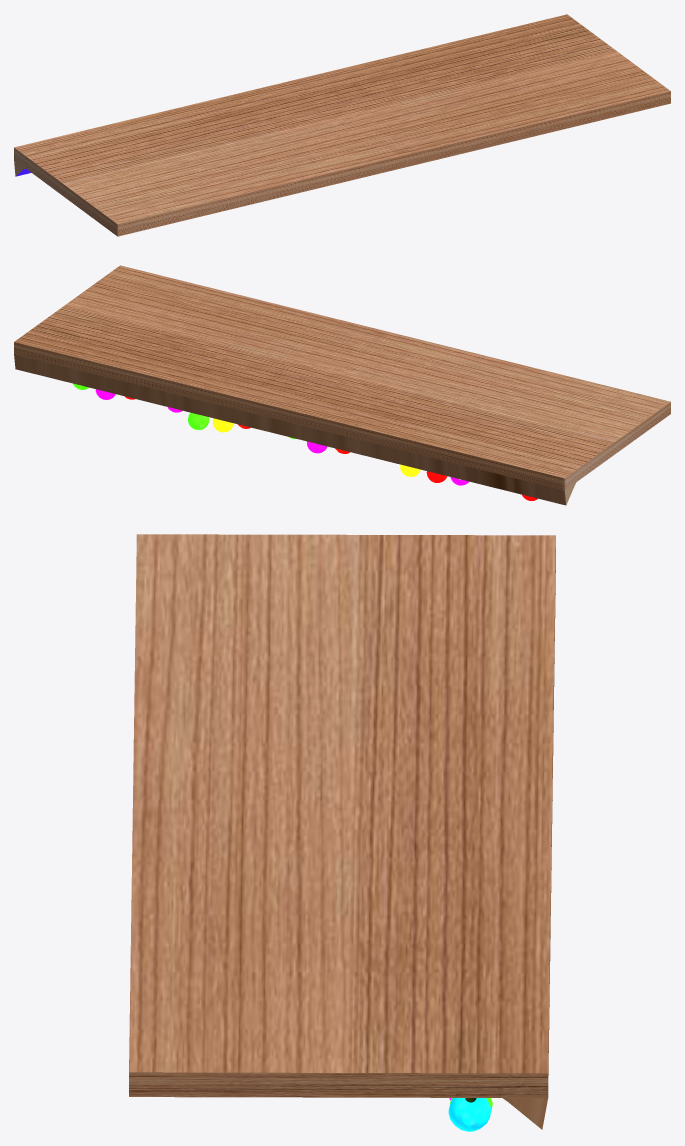
File: polica2.gltf
The picture shows the model from 3 angles, top to bottom: view 1: azimuth 30°, elevation 25°; view 2: azimuth 150°, elevation 25°; view 3: azimuth 270°, elevation 25°; orthographic projection. The views are drawn at different scales.
Visible parts, largest first — view 1: Cube.014; view 2: Cube.014, Object_4.004; view 3: Cube.014, Object_4.004.
Part boxes in pixels (x1=…): Cube.014: x1=14, y1=14, x2=670, y2=236; Cube.014: x1=14, y1=265, x2=670, y2=505; Object_4.004: x1=73, y1=383, x2=537, y2=500; Cube.014: x1=129, y1=534, x2=555, y2=1129; Object_4.004: x1=448, y1=1098, x2=492, y2=1131.
Size of the model in its own units: 2 by 0.2031 by 0.6707.
3 materials, 2 textured.
